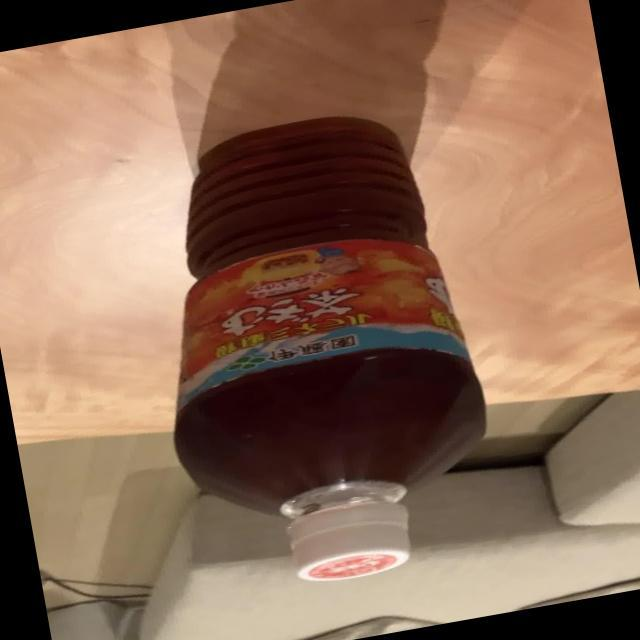good: (118, 98, 513, 609)
